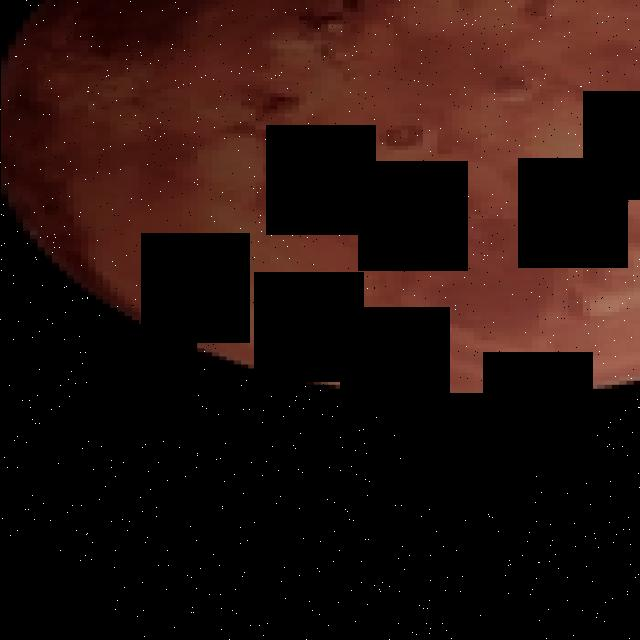Mars: (0, 0, 640, 401)
